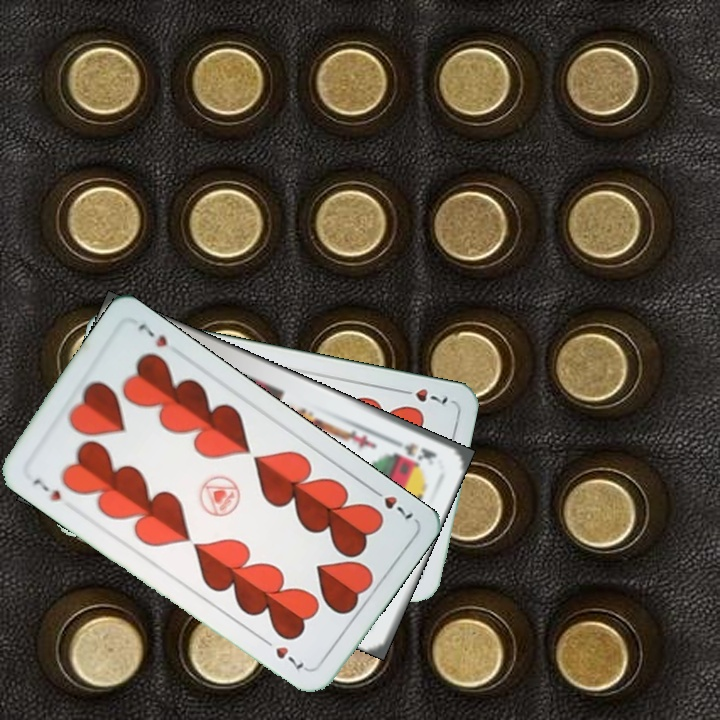H7: (366, 483, 416, 522), (394, 384, 451, 409), (29, 474, 64, 504)
SK: (386, 433, 439, 464)
